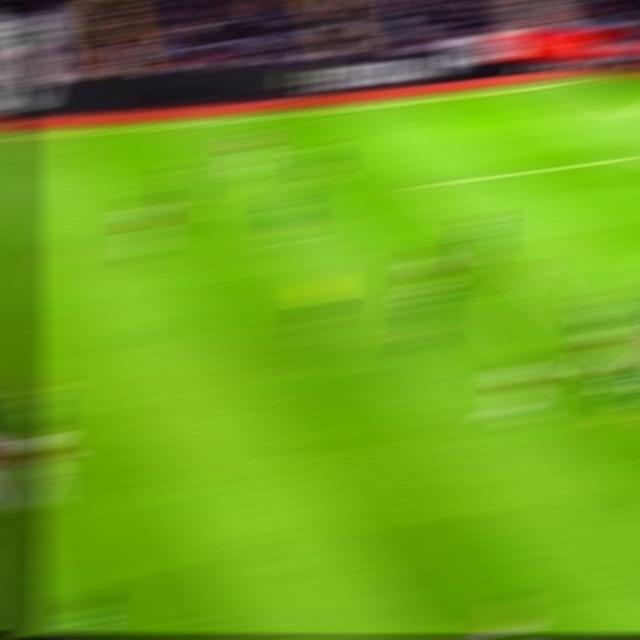bigarea_top_inner: (401, 175, 440, 196)
corner: (556, 74, 596, 92)
top_arc_area_intersection: (501, 262, 544, 284)
